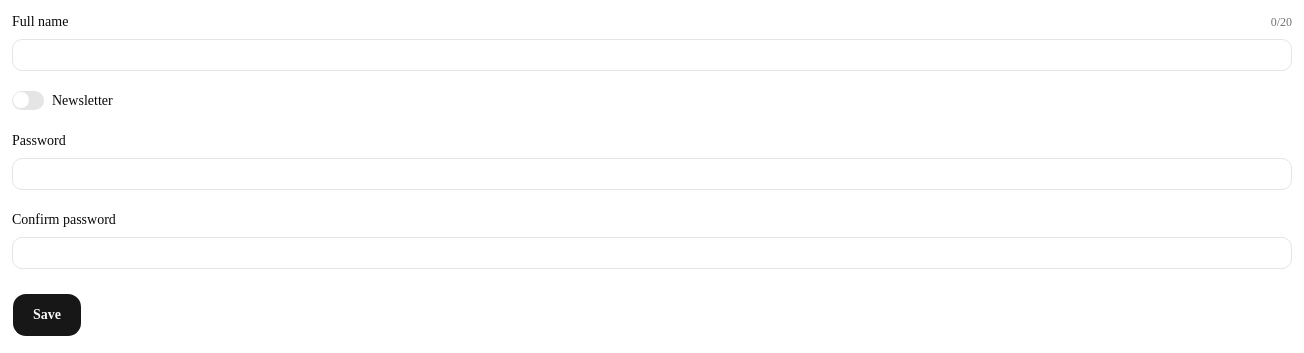
SchemaForm › renders labelled widgets with a live character counter
Expected: the text "0/20" is shown, [1271, 14, 1292, 30]
Type "Magda" into the field labelled "Full name".
click(652, 55); type("Magda")  # box [12, 39, 1292, 71]
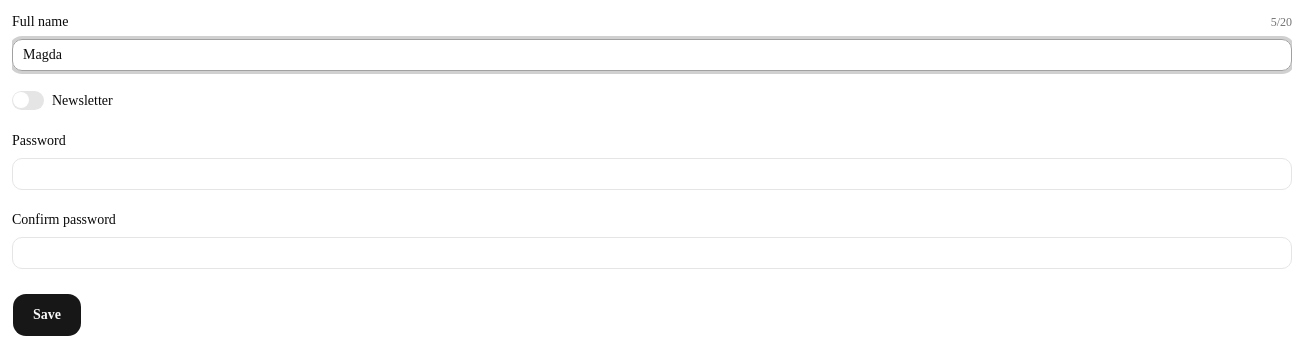
Expected: the switch named "Newsletter" is shown, [12, 91, 44, 110]
Result: the text "5/20" is shown at [1271, 14, 1292, 30]
